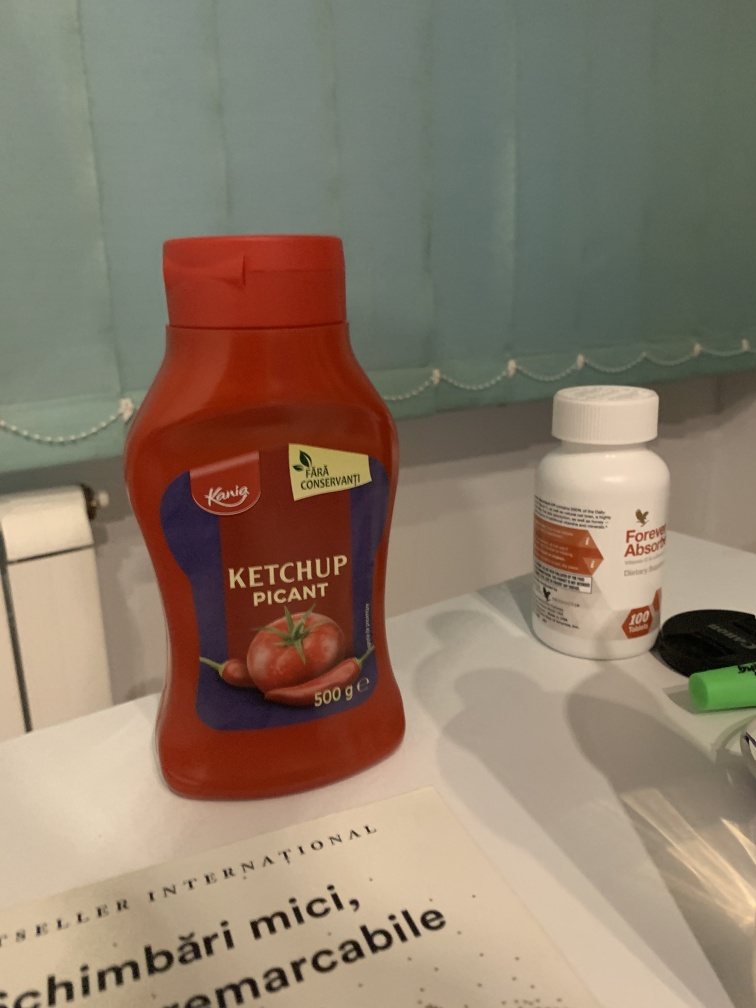ketchup: (114, 231, 415, 810)
